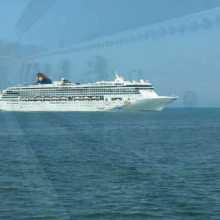youlun: (1, 71, 178, 113)
